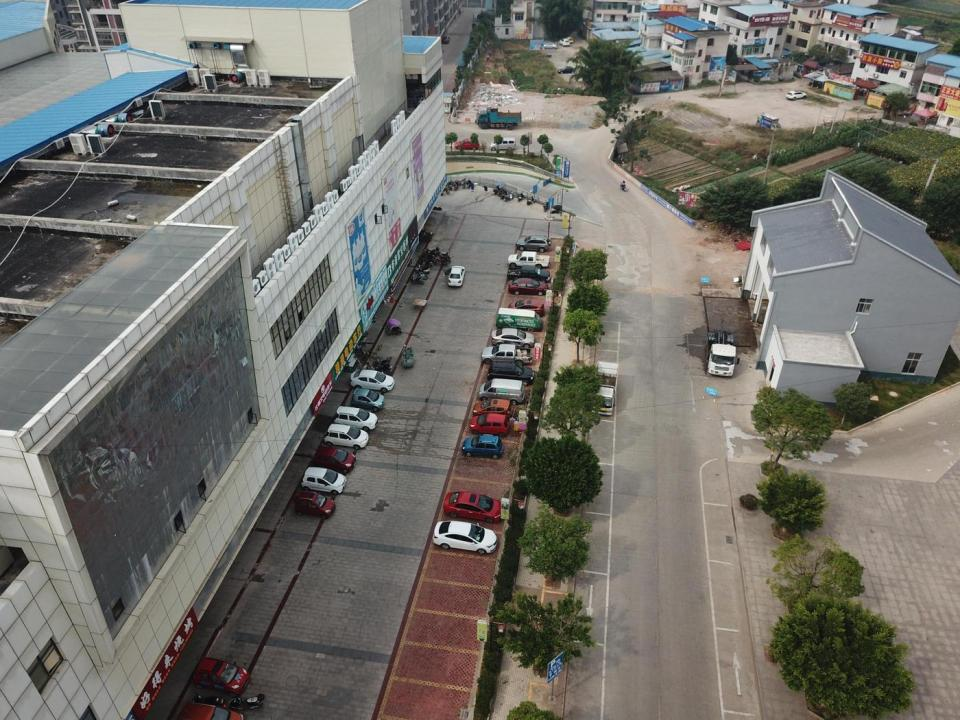car: (194, 656, 250, 696), (433, 521, 498, 554), (443, 491, 503, 522), (174, 701, 245, 719), (301, 466, 346, 494), (313, 445, 356, 473), (487, 360, 535, 385), (324, 423, 369, 449), (333, 406, 378, 431), (296, 491, 336, 519), (461, 434, 504, 459), (350, 370, 395, 392), (469, 413, 510, 437), (490, 328, 536, 348), (350, 386, 385, 411), (473, 398, 513, 418), (508, 299, 545, 317), (509, 278, 548, 295), (516, 234, 551, 252), (442, 265, 466, 286), (455, 138, 479, 150), (785, 91, 807, 100), (558, 66, 575, 73), (542, 42, 558, 49), (541, 40, 554, 47), (559, 38, 570, 46), (566, 36, 574, 42)
truck: (706, 318, 736, 376), (591, 360, 619, 414), (481, 344, 531, 365), (477, 110, 521, 130), (507, 264, 550, 282), (507, 252, 550, 268), (756, 113, 781, 131)
van: (478, 378, 525, 404), (496, 307, 542, 332), (490, 138, 515, 150)
